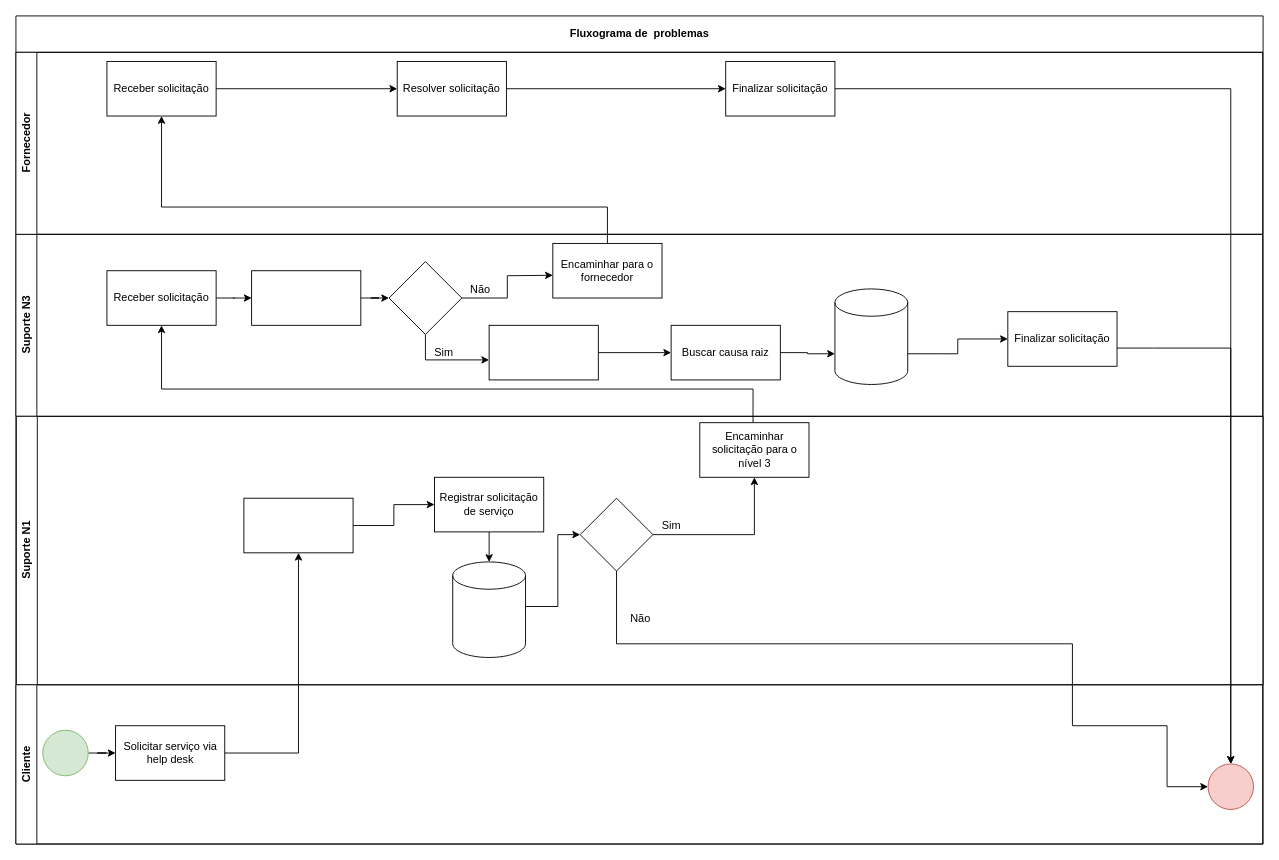
Some shapes in this 1279 by 860 pixel diagram are drawn without their labels. Here are the shapes that lost their labels. From the top down, the centre of each, then its label:
(306,297): Analisar situação
(425,297): N3 resolve?
(543,352): Aplicar solução de contorno
(871,336): Registrar na base de conhecimento
(298,525): Receber ticket de suporte pela ferramenta
(616,534): É realmente um Problema?
(489,609): Consultar base de conhecimento
